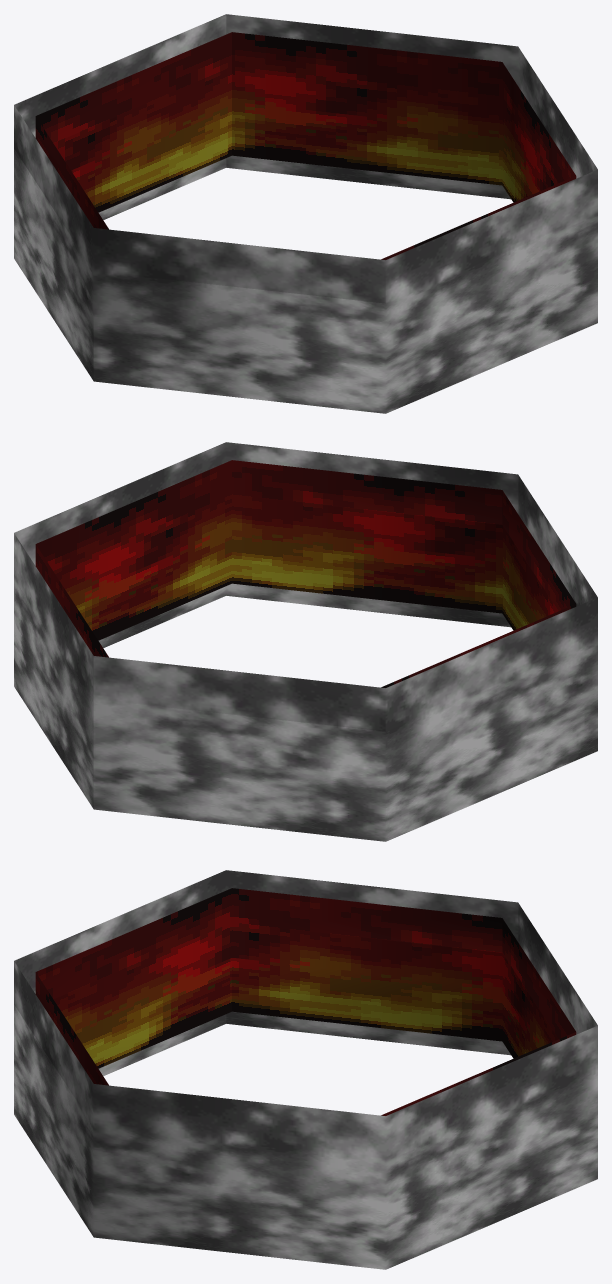
Rendered from STG0100_G_20.fbx.
3 views of the same model, one above another, from view 1: azimuth 30°, elevation 25°; view 2: azimuth 150°, elevation 25°; view 3: azimuth 270°, elevation 25° (orthographic).
Parts seen in each view (by area): view 1: STG0100_G_20_s0100_nn040; view 2: STG0100_G_20_s0100_nn040; view 3: STG0100_G_20_s0100_nn040.
Part boxes in pixels (<box>): STG0100_G_20_s0100_nn040: <box>14,14,597,413</box>; STG0100_G_20_s0100_nn040: <box>14,442,597,841</box>; STG0100_G_20_s0100_nn040: <box>14,870,597,1269</box>.
Bounding box in the file's own units: 17222 × 5016 × 17276.
